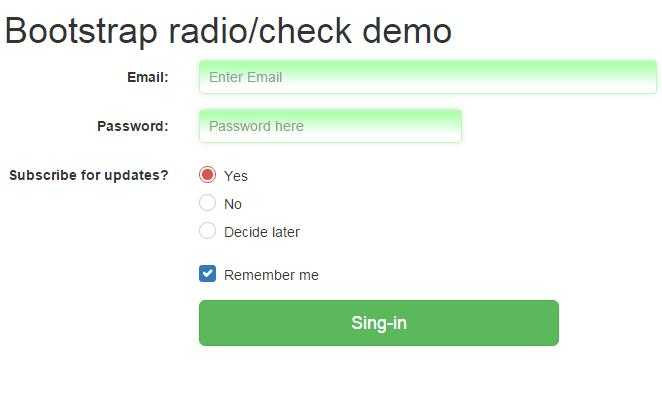checkbox: (189, 256, 222, 288)
radiobutton: (191, 193, 220, 216), (192, 165, 222, 185), (191, 220, 220, 239)
textbox: (191, 56, 662, 102), (192, 109, 468, 150)
